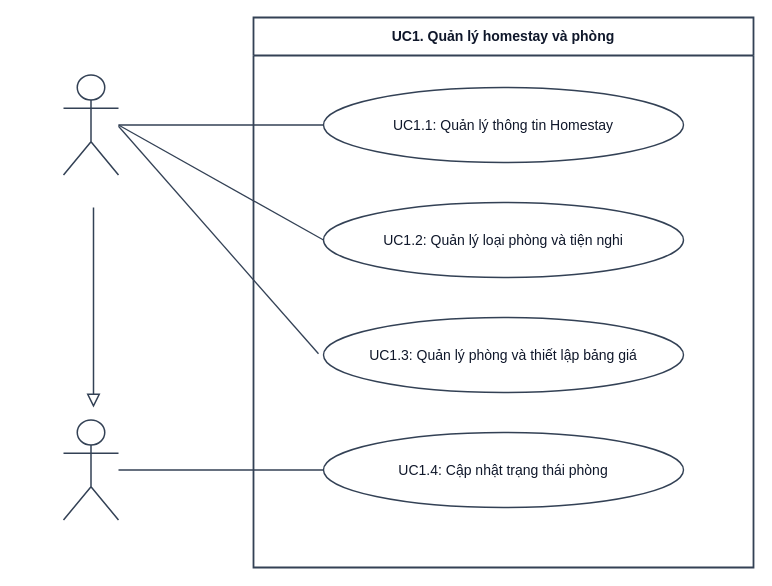
Some shapes in this 772 by 586 pixel diagram are drawn without their labels. The shapes that lost their labels are listed below. From the top down, each one's centre as x and y in pixels, then its label:
point 90,124: Chủ homestay/ Admin
point 90,469: Nhân viên Lễ tân
